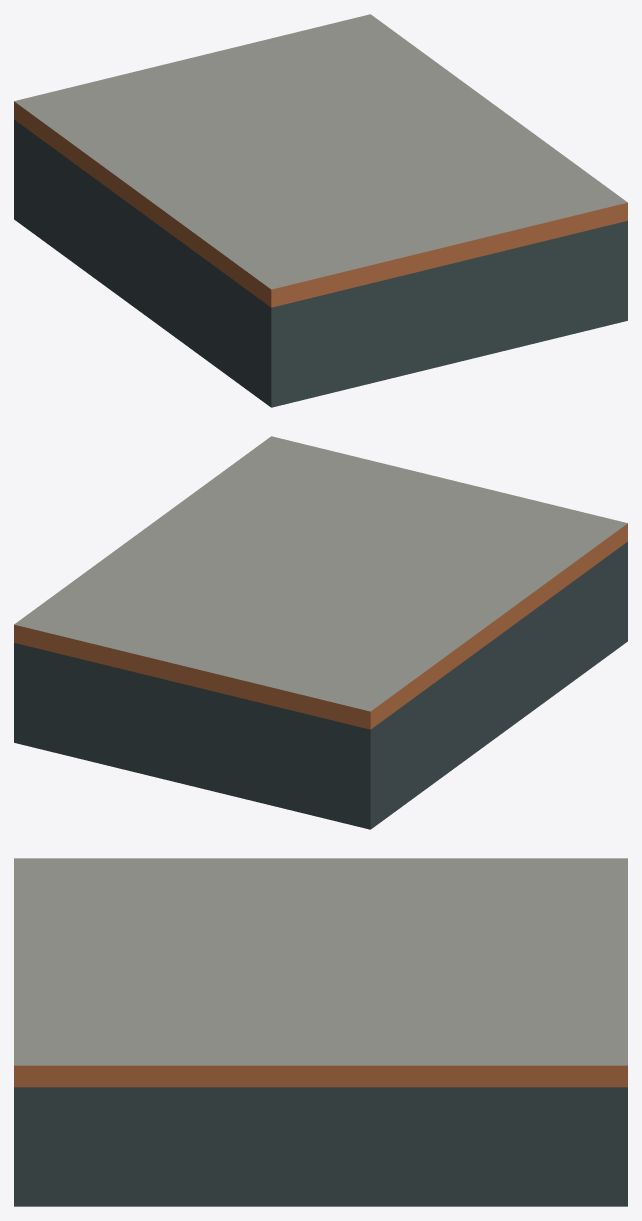
The model's file is far.fbx.
The picture shows the model from 3 angles, top to bottom: view 1: azimuth 30°, elevation 25°; view 2: azimuth 150°, elevation 25°; view 3: azimuth 270°, elevation 25°; orthographic projection. The views are drawn at different scales.
Visible parts, largest first — view 1: a2002/600/far; view 2: a2002/600/far; view 3: a2002/600/far.
Part boxes in pixels (left/top/right/bottom): a2002/600/far: left=14, top=14, right=627, bottom=407; a2002/600/far: left=14, top=436, right=627, bottom=829; a2002/600/far: left=14, top=858, right=627, bottom=1206.
Size of the model in its own units: 12 by 3.8 by 15.
